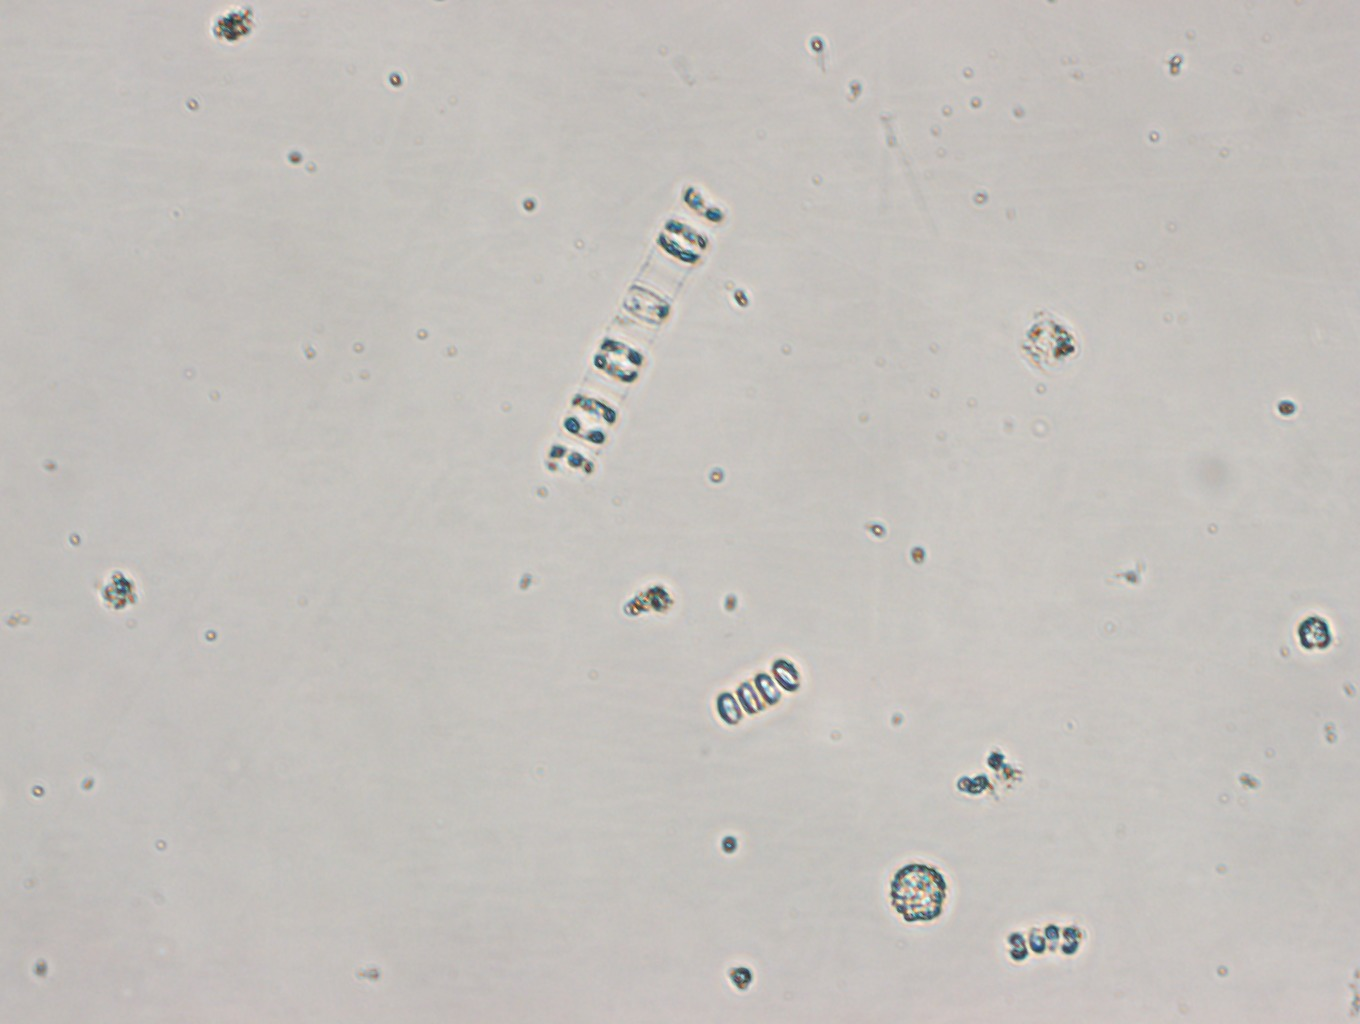skeletonema: (541, 179, 728, 492), (715, 656, 801, 731), (1005, 922, 1084, 961)
